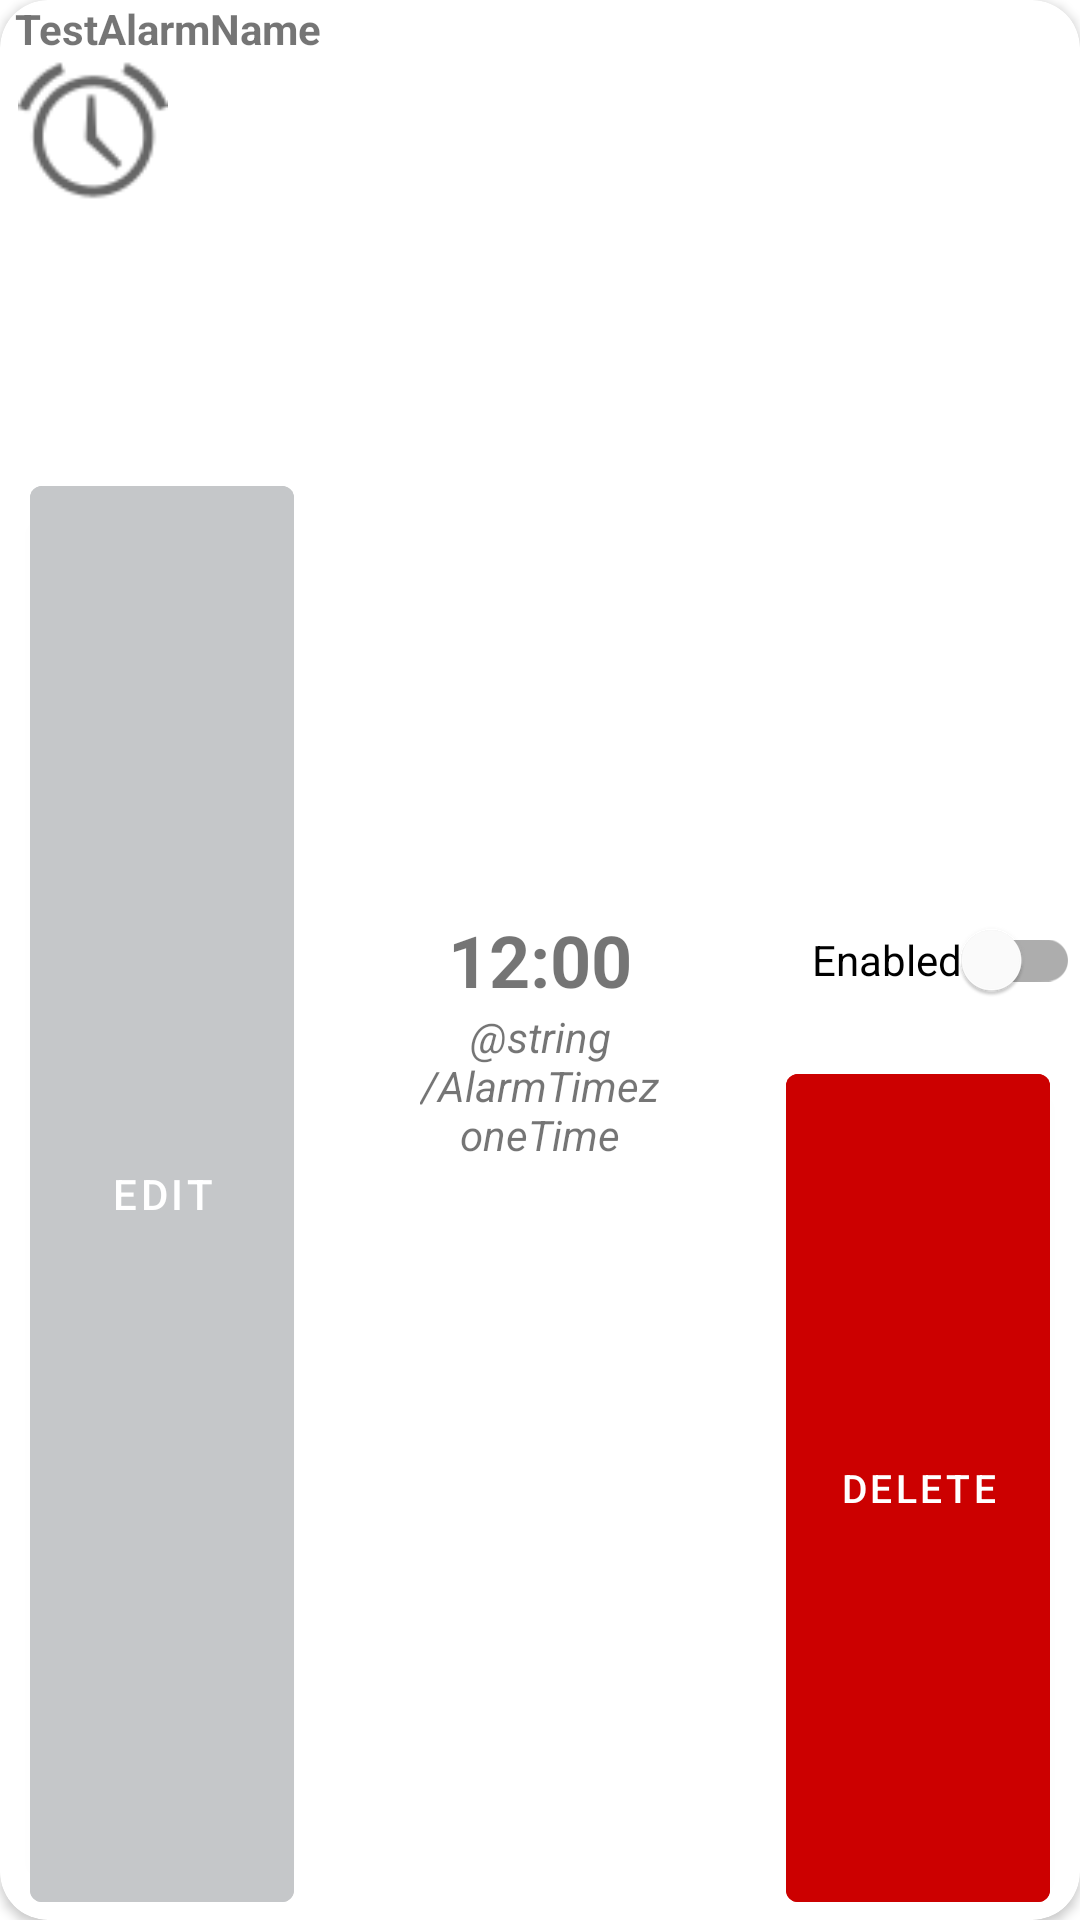

Icon click points for this 1080×1920 phone screenshot, format point (x, y):
lock idle alarm: point (93, 130)
